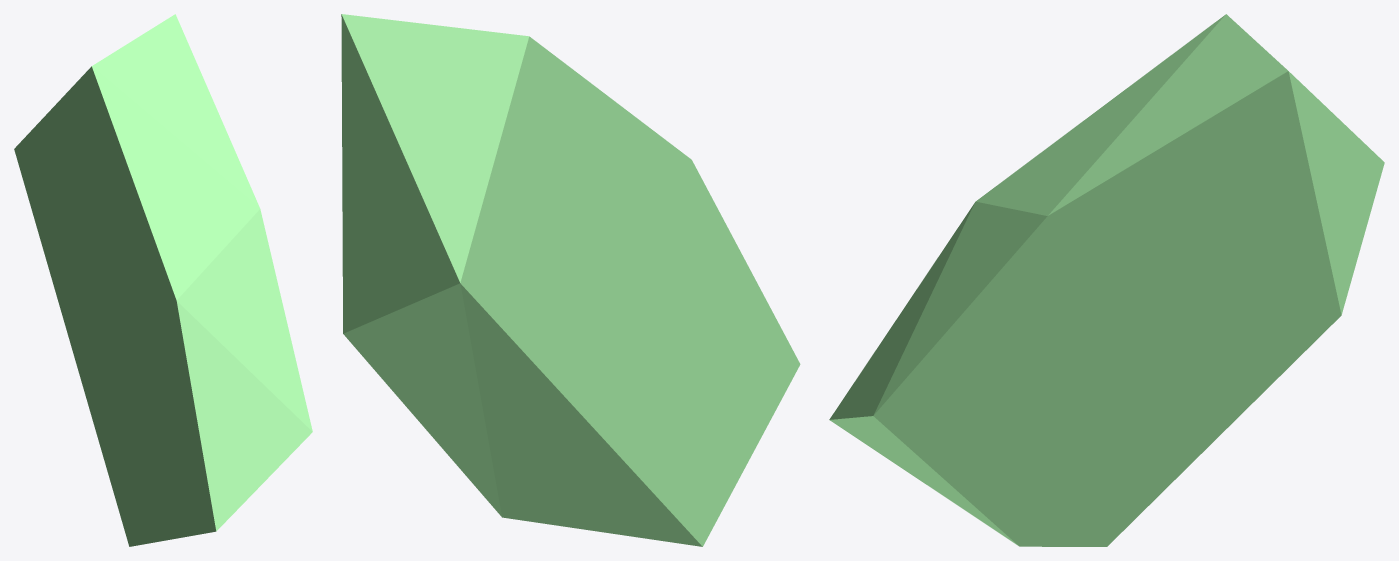
The model's file is UMIRobot_UMIRobot_link_5_convex_coll_41.dae.
3 renders of one model, left to right at view 1: azimuth 30°, elevation 25°; view 2: azimuth 150°, elevation 25°; view 3: azimuth 270°, elevation 25°, orthographic. The views are drawn at different scales.
Visible parts, largest first — view 1: node; view 2: node; view 3: node.
Boxes of the visible parts, x1,y1,x2,y2 form: node: [14, 14, 312, 546]; node: [341, 14, 800, 546]; node: [829, 14, 1384, 546].
Bounding box in the file's own units: 0.00268 × 0.00708 × 0.0068.
